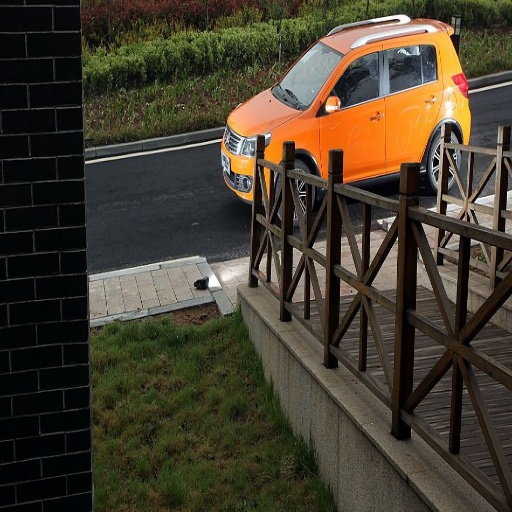back_left_door: (383, 38, 438, 173)
front_glass: (274, 48, 334, 108)
